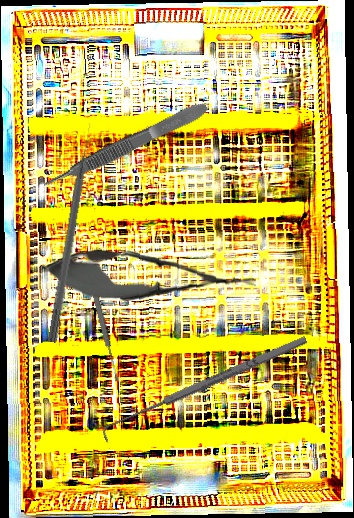Hook Surgical: (98, 332, 312, 444)
Micro Scissor: (40, 244, 258, 308)
Pusher: (46, 122, 98, 344)
Surgical Spoon: (84, 264, 121, 383)
Tissue Forceps: (39, 98, 211, 193)
